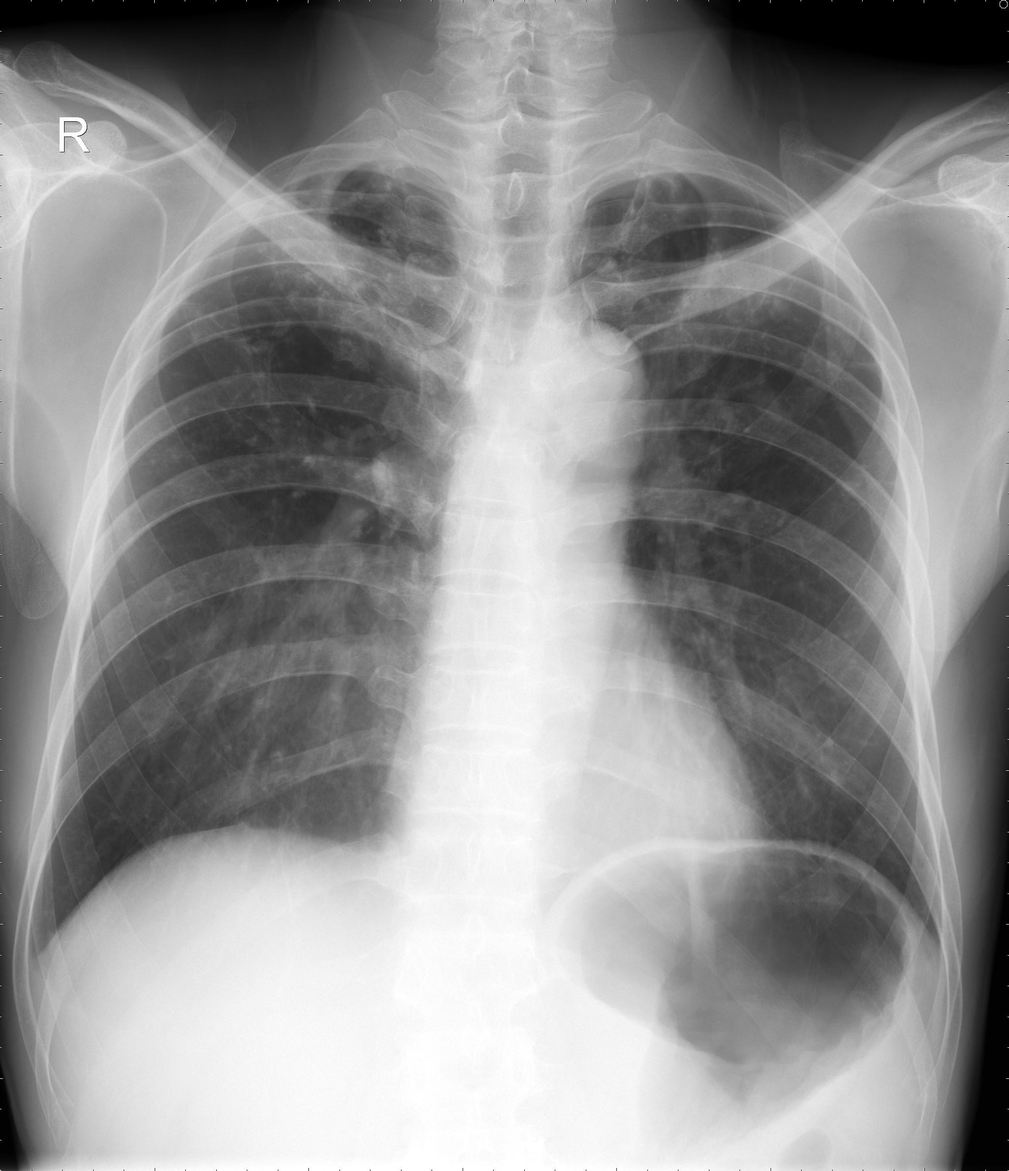Pulmonary fibrosis: (204, 175, 420, 362), (654, 233, 832, 352)
